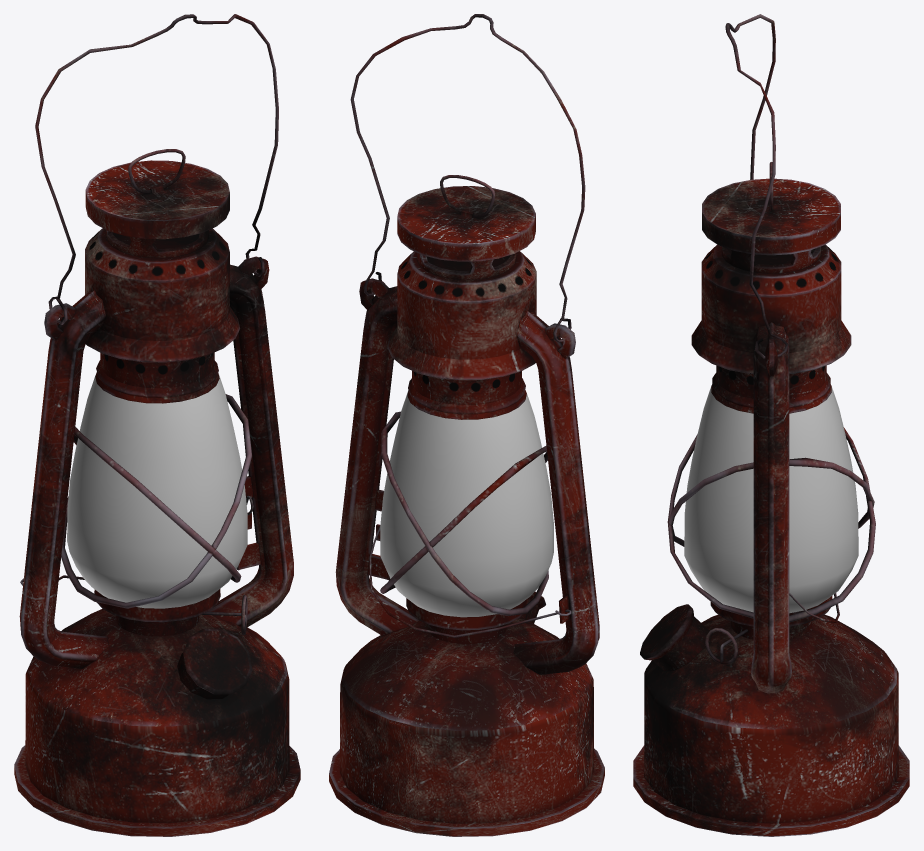
File: Lantern Goblin.fbx
3 renders of one model, left to right at view 1: azimuth 30°, elevation 25°; view 2: azimuth 150°, elevation 25°; view 3: azimuth 270°, elevation 25°, orthographic. The views are drawn at different scales.
Parts seen in each view (by area): view 1: pCylinder28_glass_lamp_0; view 2: pCylinder28_glass_lamp_0; view 3: pCylinder28_glass_lamp_0.
Boxes of the visible parts, left/top/right/bottom form: pCylinder28_glass_lamp_0: left=14, top=14, right=300, bottom=836; pCylinder28_glass_lamp_0: left=329, top=14, right=604, bottom=836; pCylinder28_glass_lamp_0: left=633, top=14, right=909, bottom=836.
Bounding box in the file's own units: 25.74 × 70.33 × 23.3.
